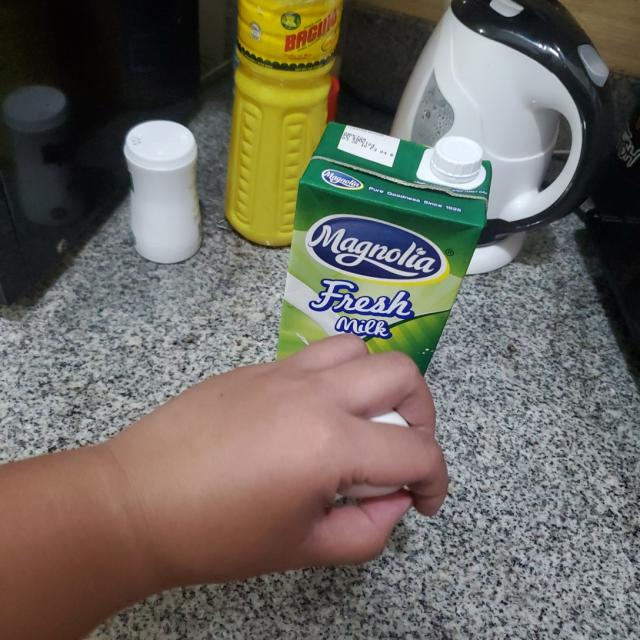egg: (323, 403, 422, 497)
milk: (272, 120, 496, 378)
